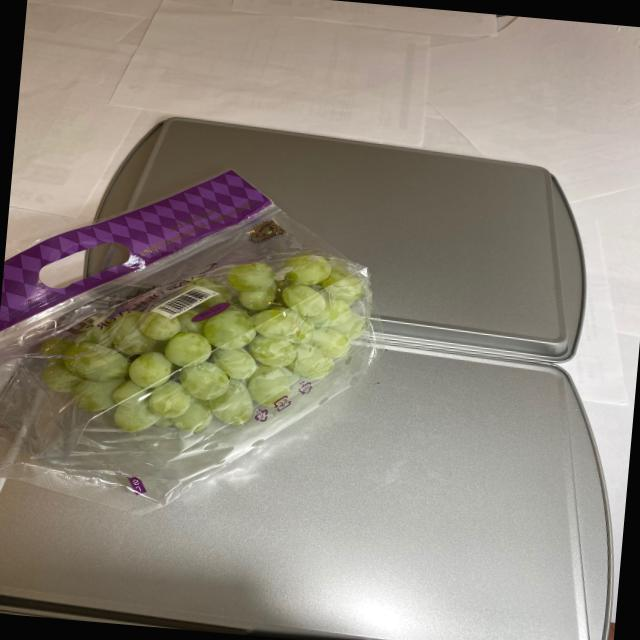grapes: (24, 216, 387, 462)
